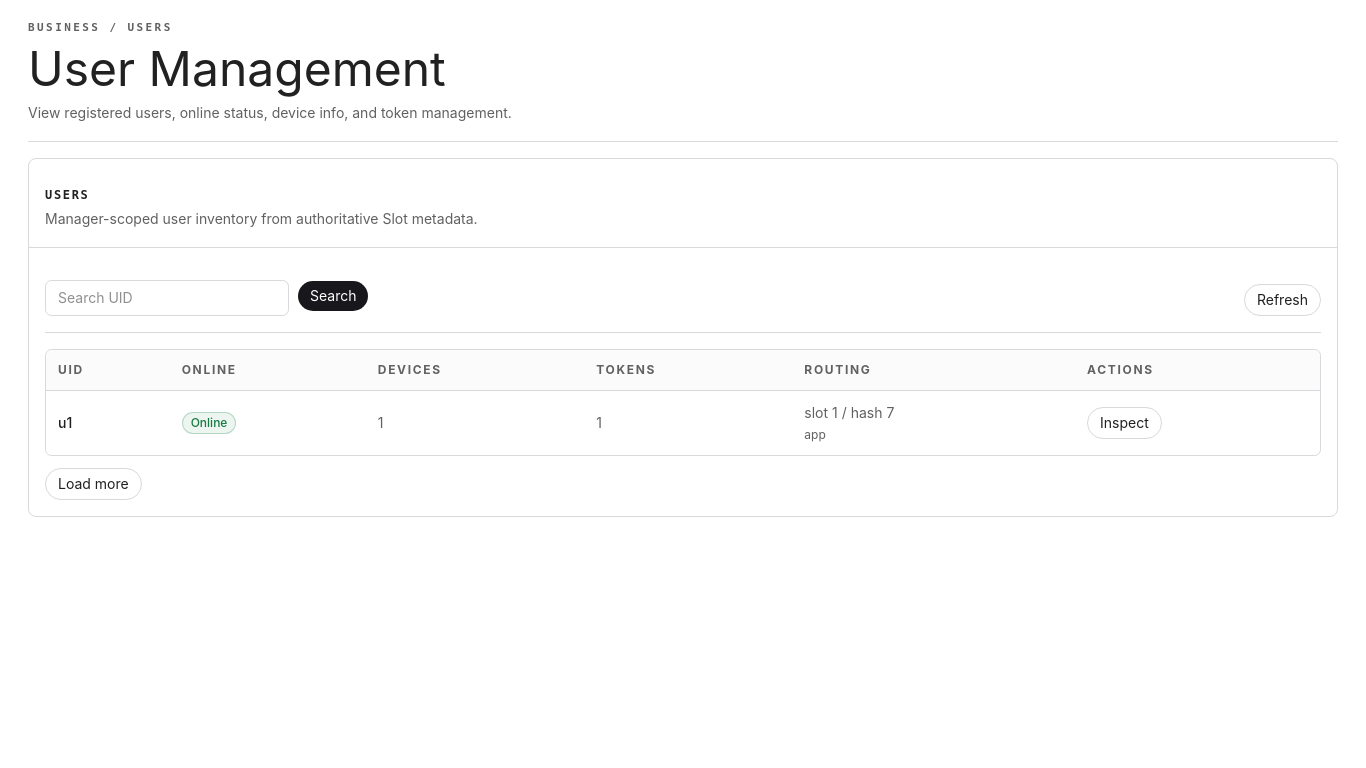
loads more users with next cursor
The width and height of the screenshot is (1366, 768).
Expected: the text "u1" is shown, [46, 390, 170, 454]
Click the button "Load more" at (93, 484), box [45, 468, 142, 500]
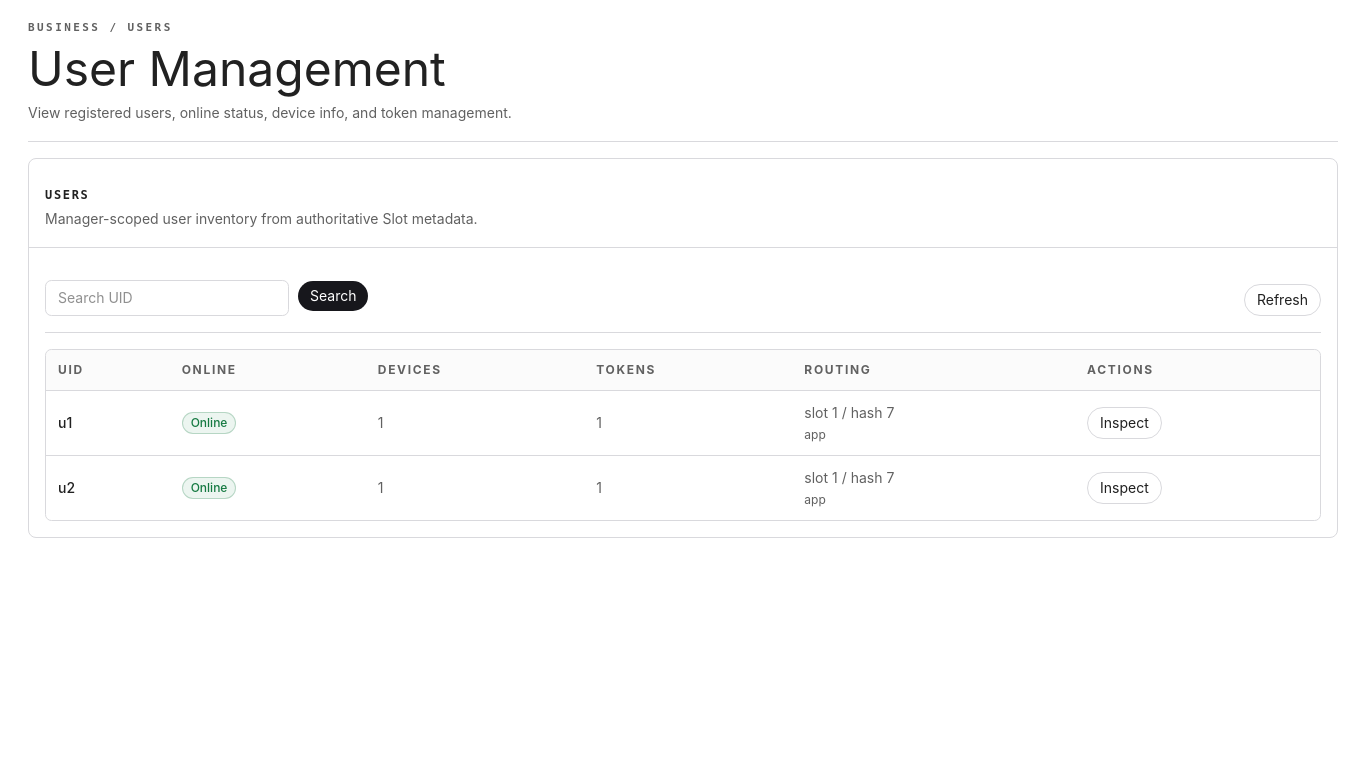
Expected: the text "u2" is shown, [46, 455, 170, 520]
